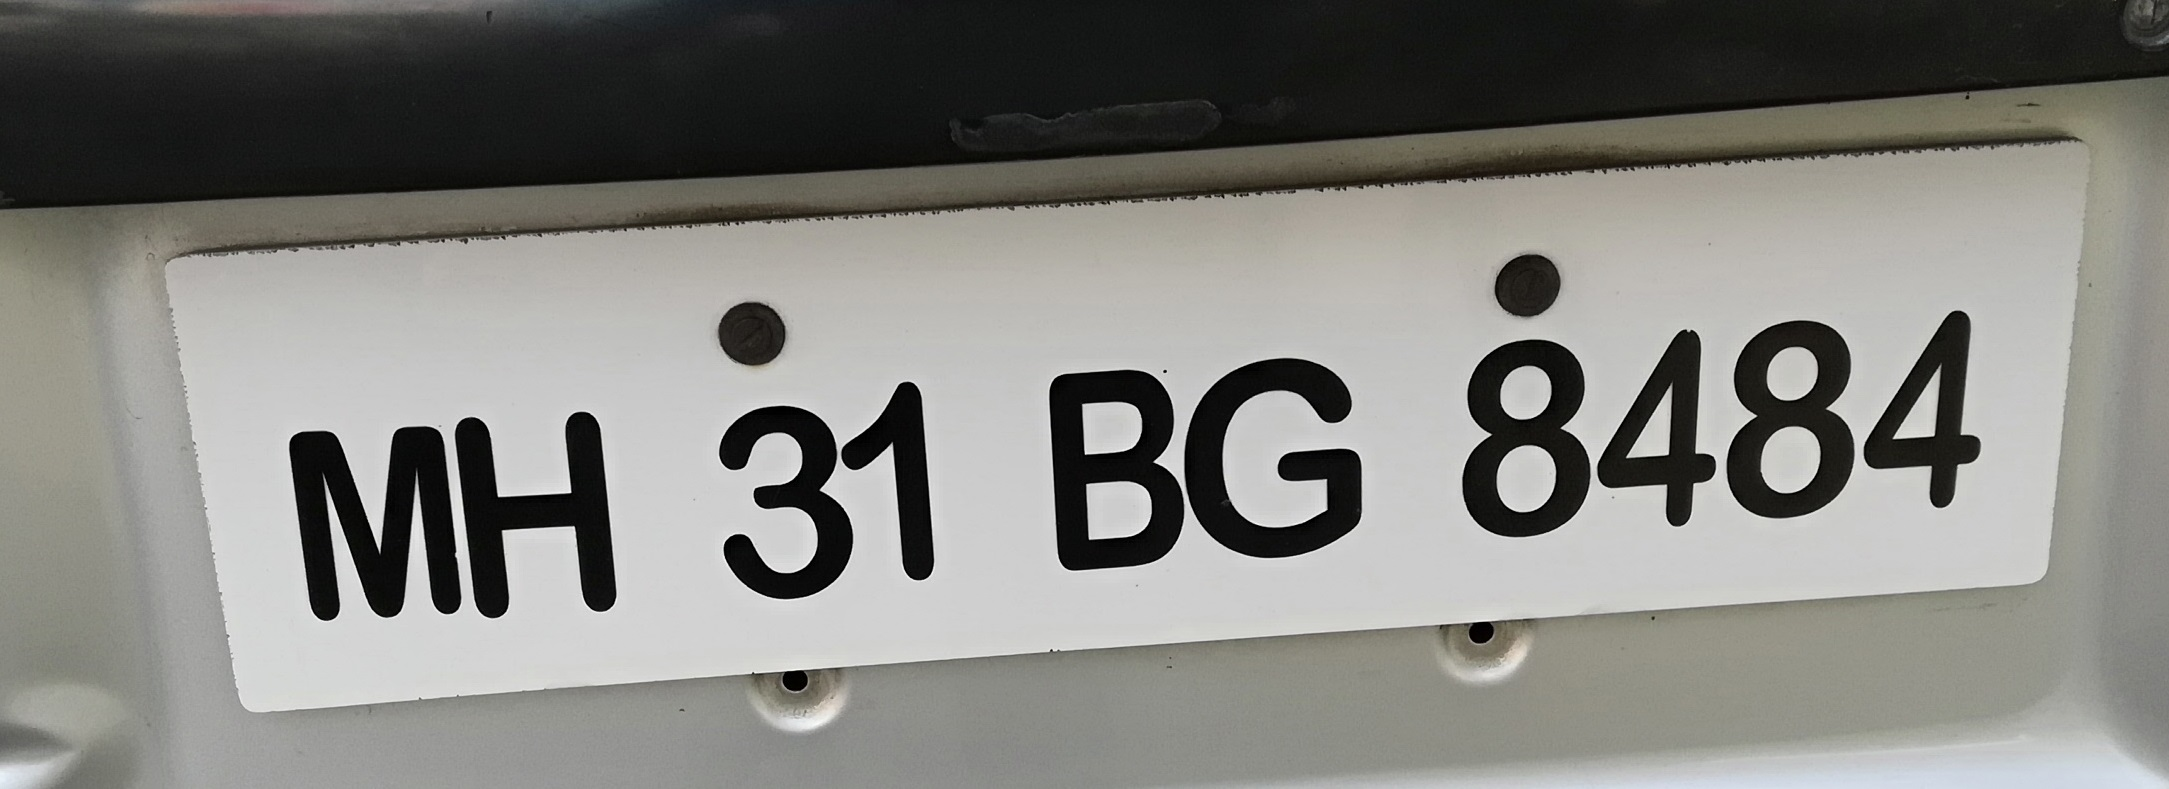numberplate: (163, 139, 2096, 721)
